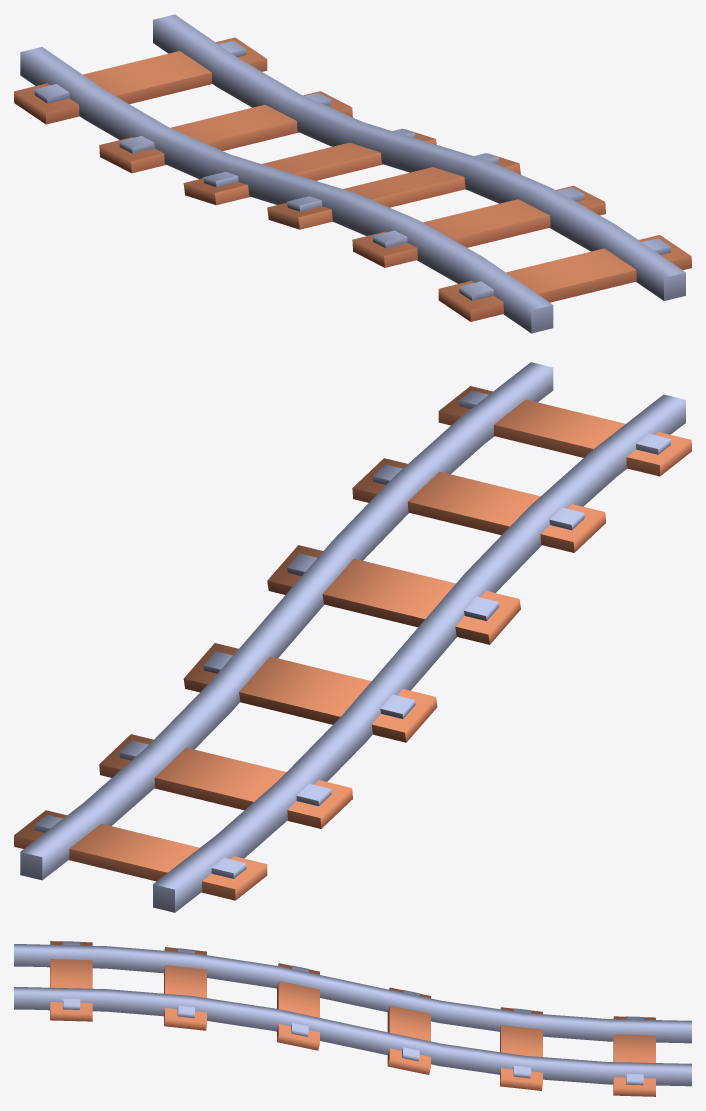
The model's file is kenney-train-railroad-straight-hill-complete-half.glb.
3 renders of one model, top to bottom at view 1: azimuth 30°, elevation 25°; view 2: azimuth 150°, elevation 25°; view 3: azimuth 270°, elevation 25°, orthographic. The views are drawn at different scales.
Parts seen in each view (by area): view 1: railroad-straight-hill-complete-half; view 2: railroad-straight-hill-complete-half; view 3: railroad-straight-hill-complete-half.
Part boxes in pixels (x1=…): railroad-straight-hill-complete-half: x1=14, y1=14, x2=691, y2=333; railroad-straight-hill-complete-half: x1=14, y1=362, x2=691, y2=912; railroad-straight-hill-complete-half: x1=14, y1=941, x2=691, y2=1096.
Size of the model in its own units: 1 by 0.6001 by 4.
Materials: 1 (1 with a texture image).
